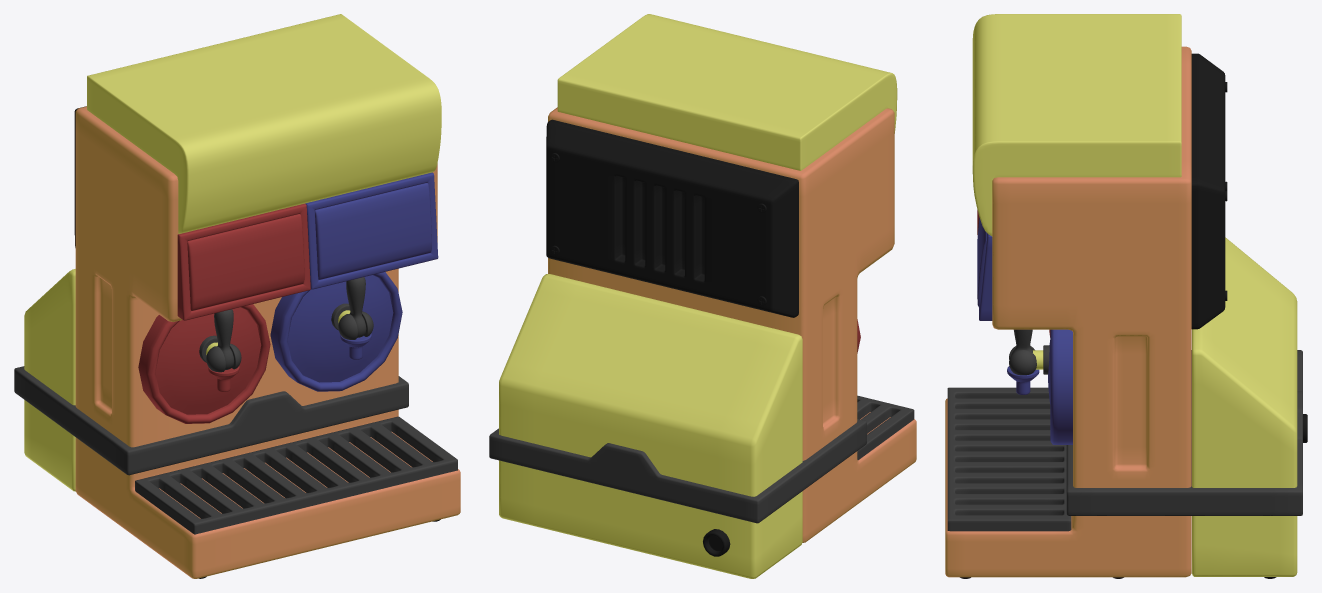
The model's file is Slurpy Machine.fbx.
The picture shows the model from 3 angles, left to right: view 1: azimuth 30°, elevation 25°; view 2: azimuth 150°, elevation 25°; view 3: azimuth 270°, elevation 25°; orthographic projection. The views are drawn at different scales.
Parts seen in each view (by area): view 1: body, top_tank, grate, edge_panel, lcd, lcd_2, backing, slurpy_tank_1, slurpy_tank_2, light_label_1, tank, tank_2 (+3 smaller); view 2: backing, vent, body, top_tank, edge_panel, grate, plug; view 3: body, top_tank, backing, grate, vent, edge_panel, tank_2, light_label_2, joint_edge_1_2, lcd_2.
Part boxes in pixels (x1,y1,x2,y2): body: [75, 106, 460, 578]; top_tank: [87, 14, 441, 233]; grate: [135, 416, 457, 534]; edge_panel: [14, 366, 408, 475]; lcd: [187, 214, 304, 310]; lcd_2: [315, 183, 431, 279]; backing: [24, 269, 75, 491]; slurpy_tank_1: [155, 307, 261, 414]; slurpy_tank_2: [287, 275, 393, 382]; light_label_1: [177, 203, 310, 320]; tank: [138, 304, 270, 423]; tank_2: [270, 272, 402, 391]; backing: [499, 274, 802, 578]; vent: [546, 119, 798, 317]; body: [548, 107, 916, 542]; top_tank: [557, 14, 897, 170]; edge_panel: [489, 419, 866, 523]; grate: [857, 395, 914, 460]; plug: [703, 529, 730, 556]; body: [945, 46, 1191, 577]; top_tank: [972, 14, 1181, 236]; backing: [1192, 237, 1297, 576]; grate: [947, 387, 1071, 531]; vent: [1191, 53, 1225, 329]; edge_panel: [1066, 350, 1302, 515]; tank_2: [1050, 329, 1072, 444]; light_label_2: [979, 233, 992, 320]; joint_edge_1_2: [1009, 350, 1036, 375]; lcd_2: [977, 218, 986, 308].
Size of the model in its own units: 3.78 by 5.49 by 4.09.
